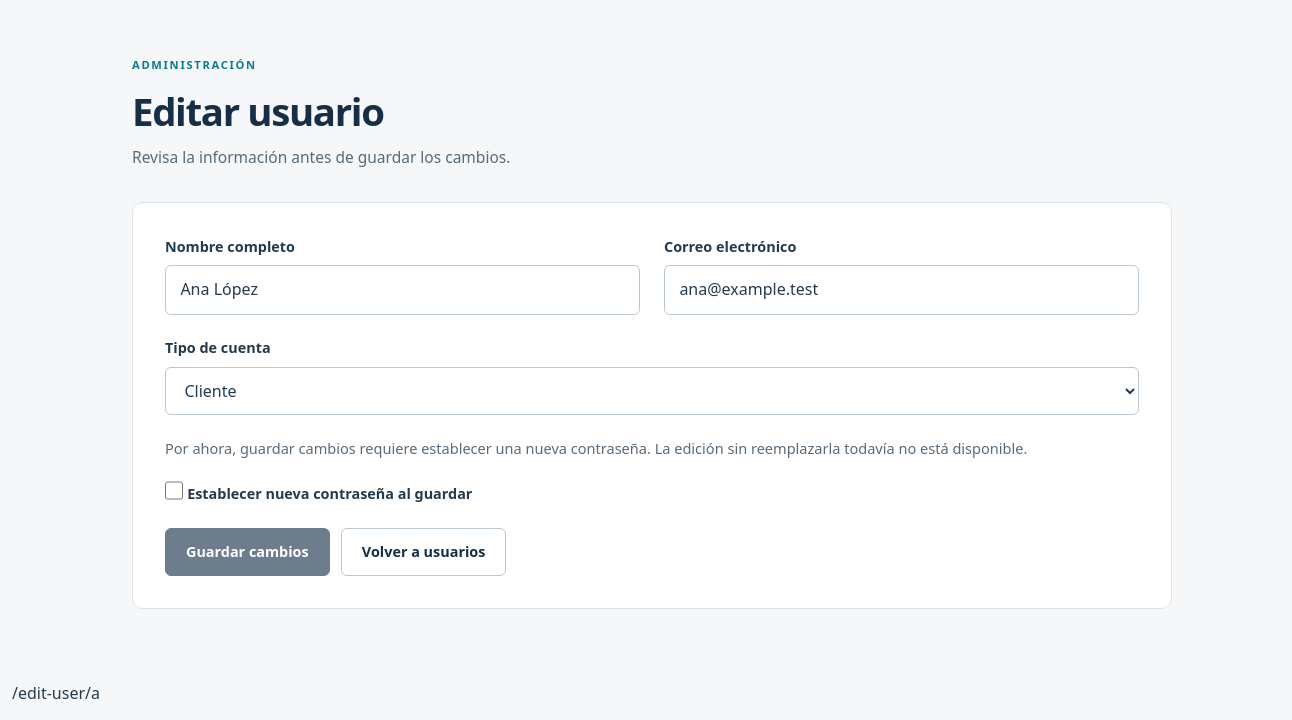
user administration › preserves loaded fields and submits only an intentional nonempty password replacement
Expected: the field labelled "Correo electrónico" holds "ana@example.test", [664, 265, 1139, 315]
Expected: the dropdown labelled "Tipo de cuenta" shows "Cliente", [165, 367, 1139, 415]
Replace the text in the field labelled "Nombre completo" with "Ana López García" at coordinates (402, 290), box [165, 265, 640, 315]
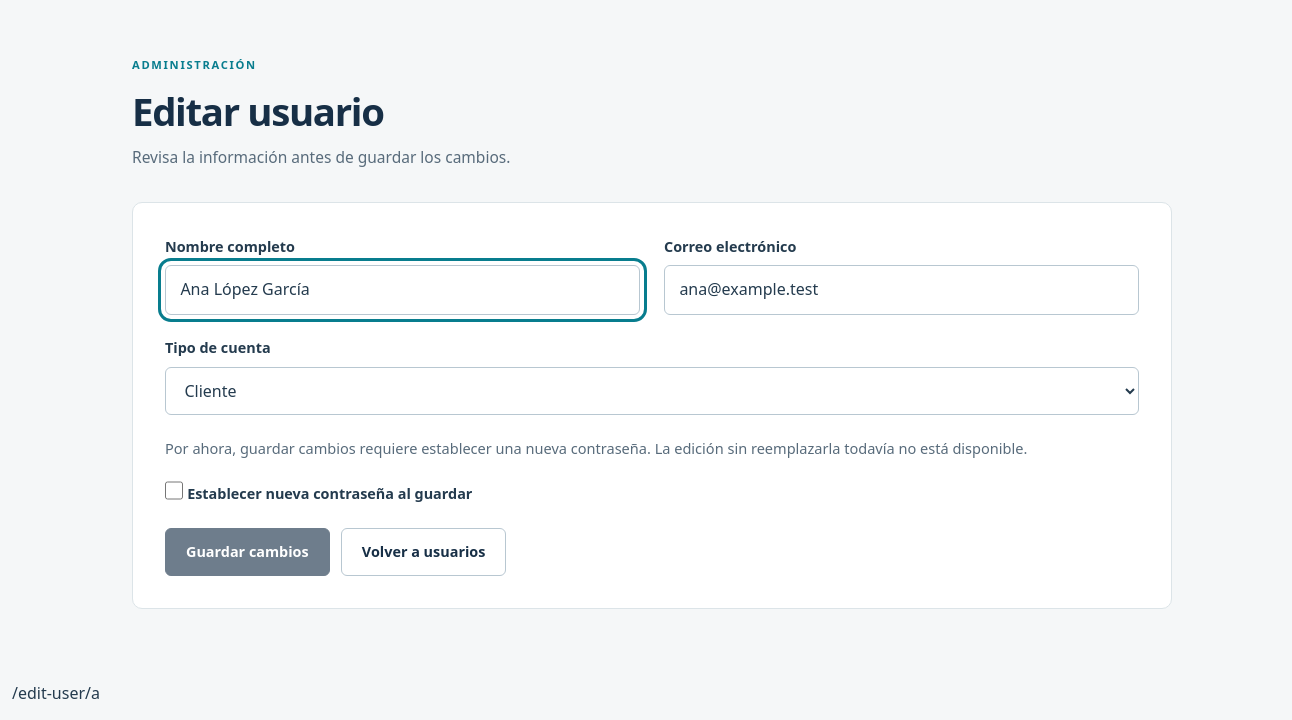
Click the checkbox labelled "Establecer nueva contraseña al guardar" at coordinates (174, 491), box [165, 482, 183, 500]
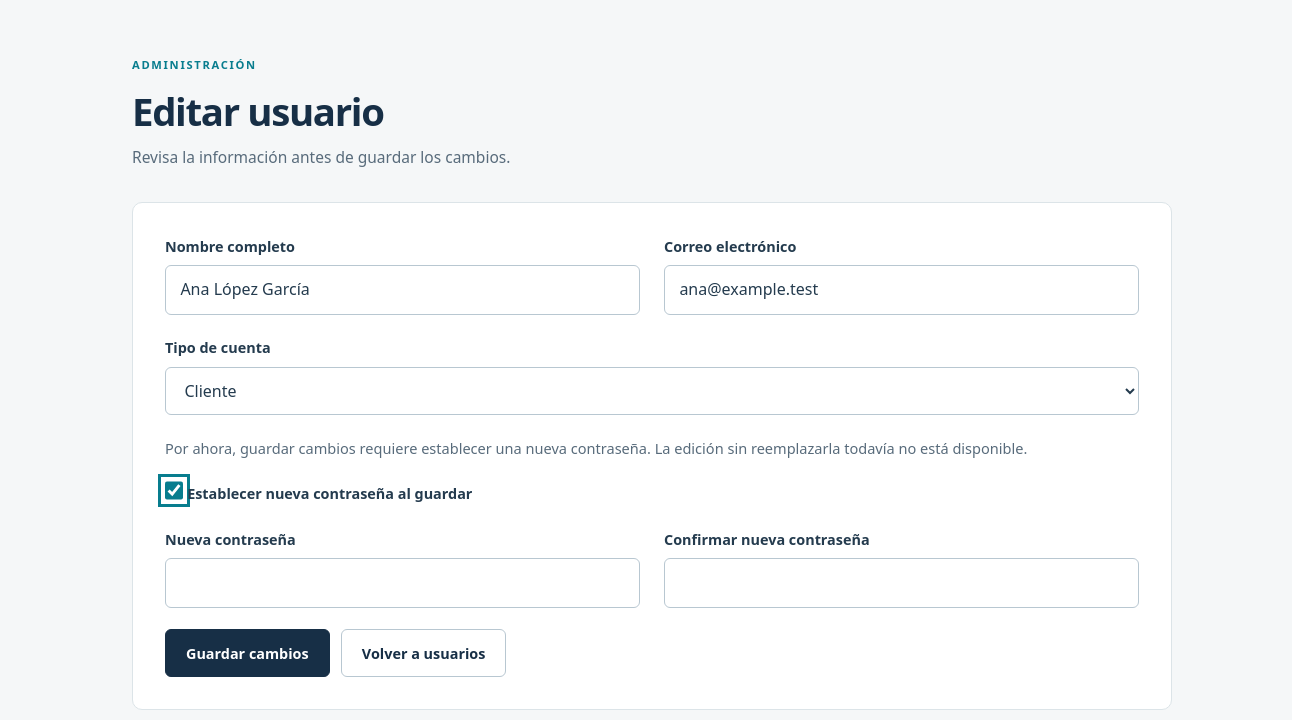
Type "dummy-replacement-sample" into the password field labelled "Nueva contraseña" at coordinates (402, 583), box [165, 558, 640, 608]
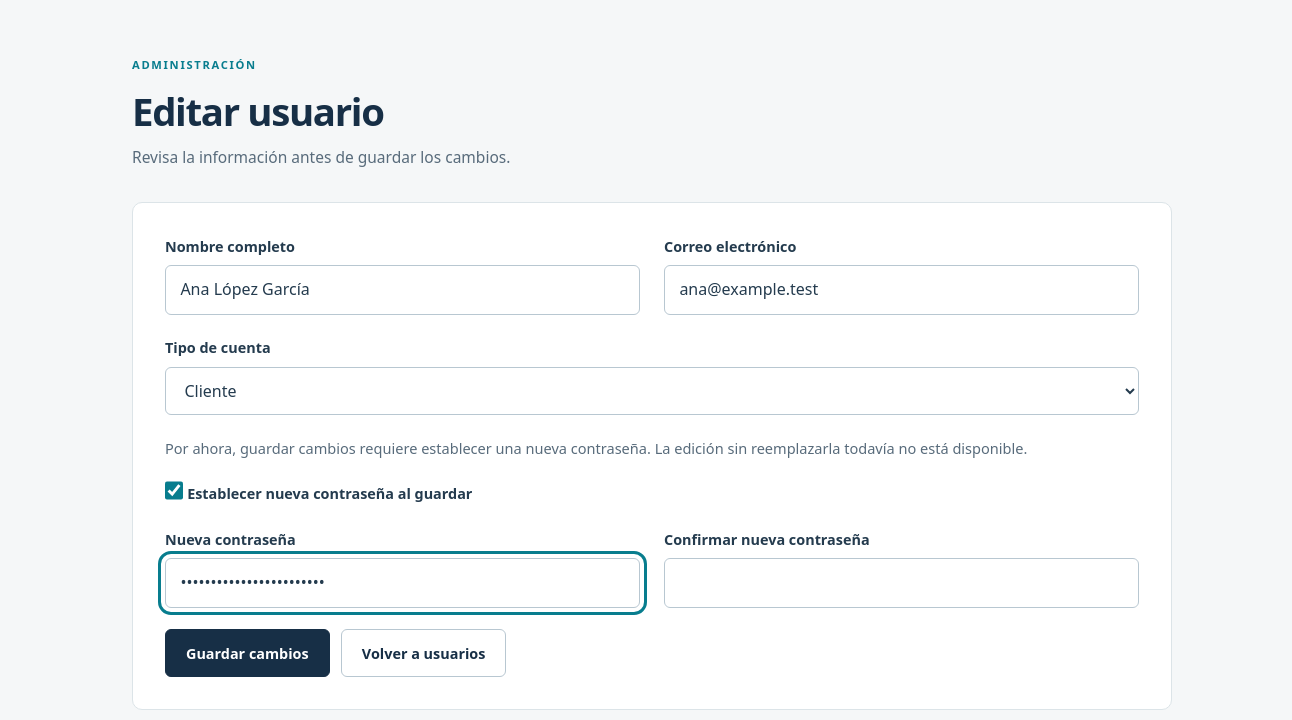
Type "dummy-replacement-sample" into the password field labelled "Confirmar nueva contraseña" at coordinates (902, 583), box [664, 558, 1139, 608]
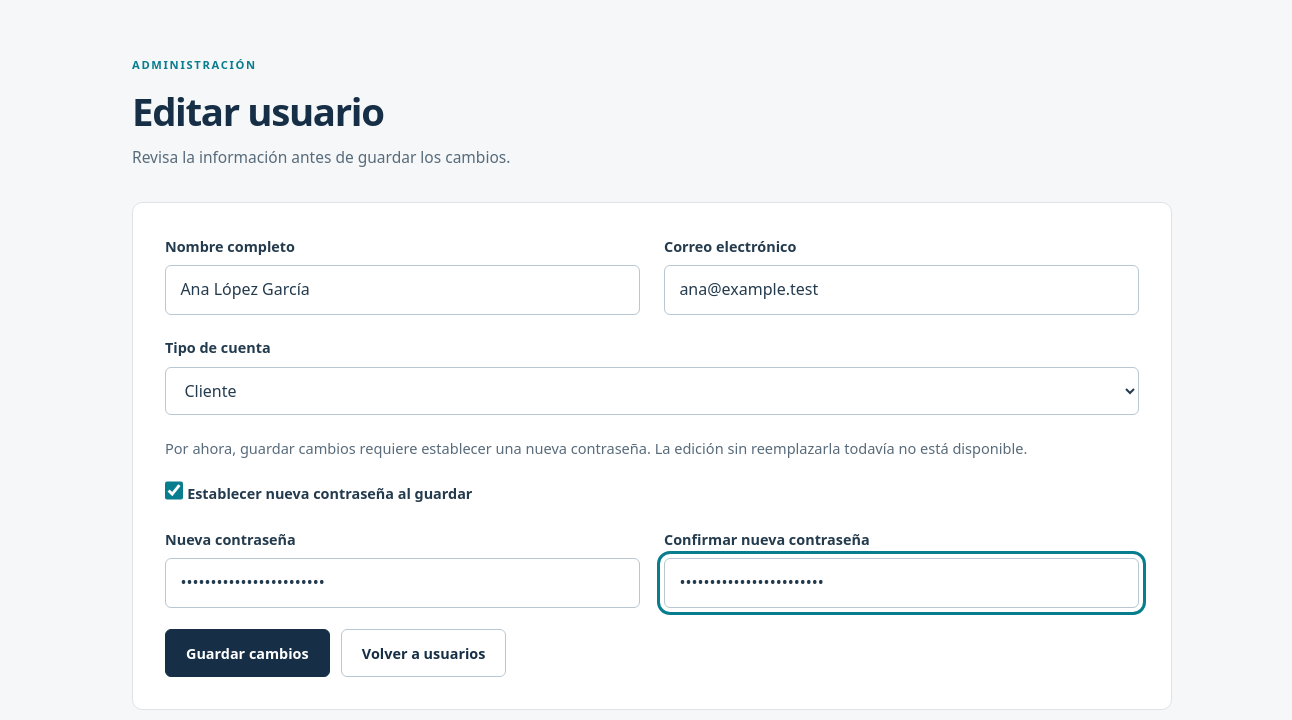
Click the button "Guardar cambios" at coordinates (247, 653), box [165, 629, 330, 677]
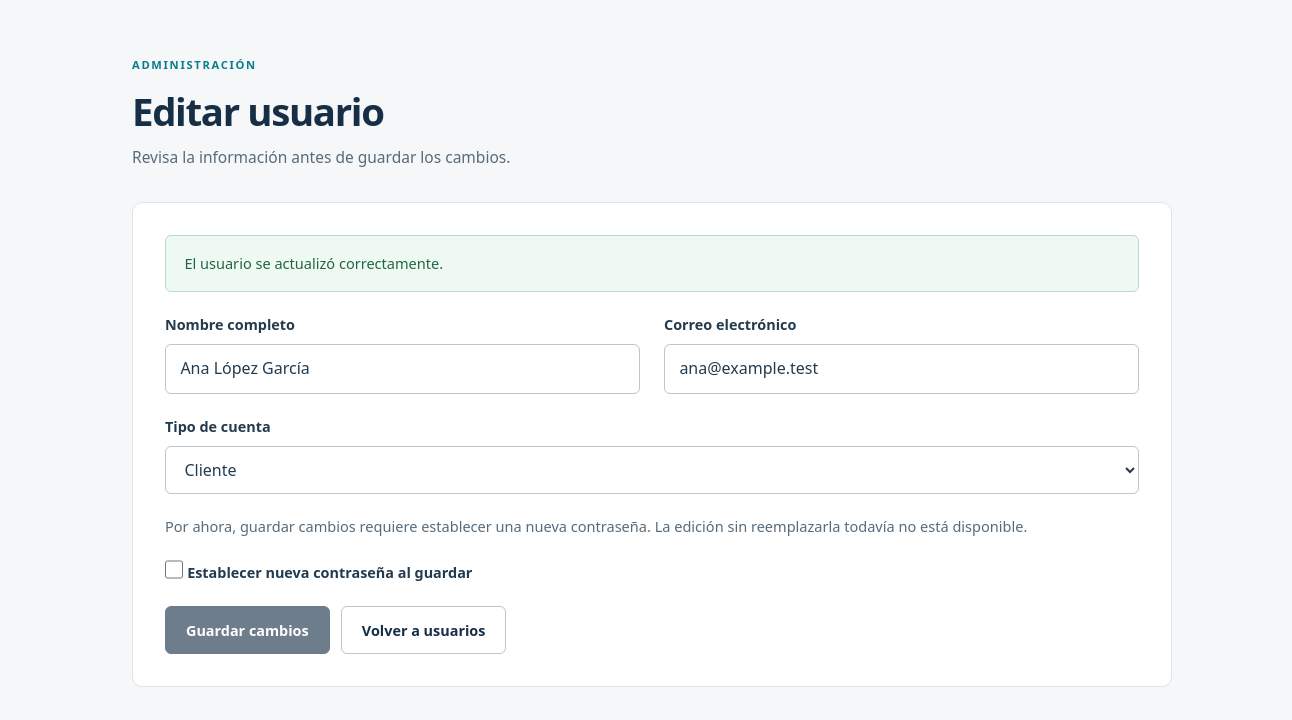
Expected: the message shows "El usuario se actualizó", [184, 253, 443, 273]
